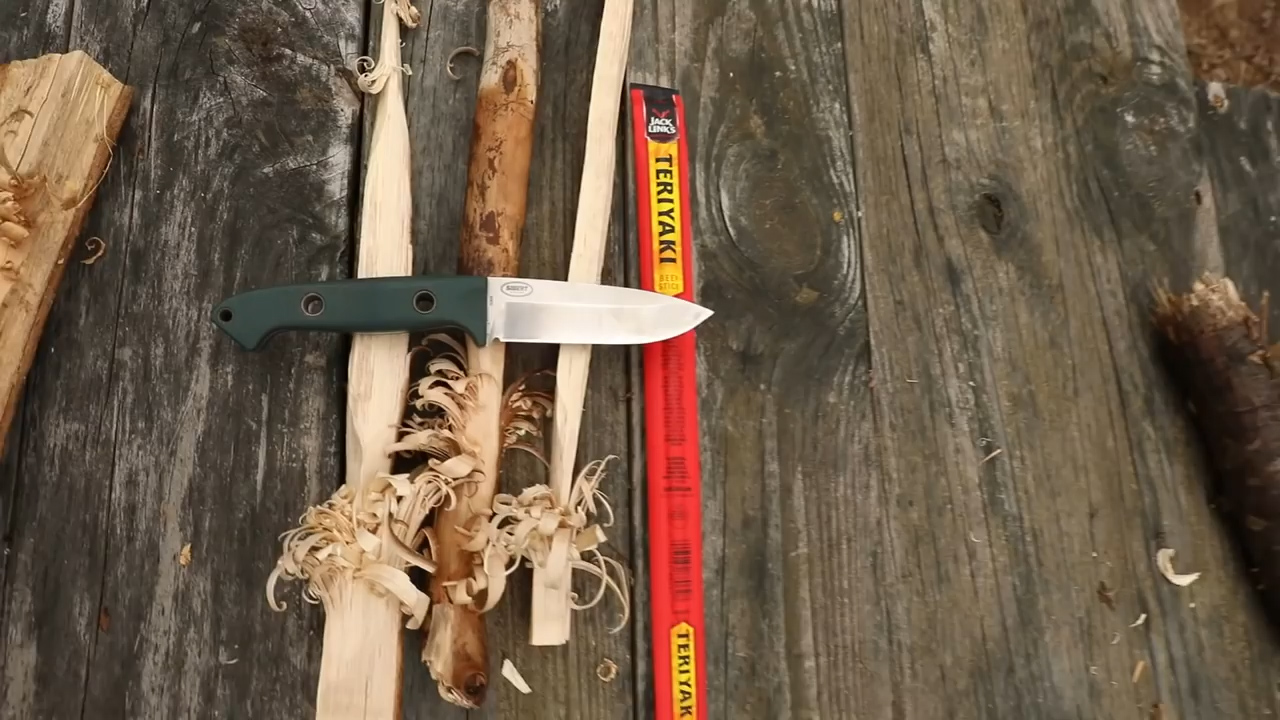knife: (410, 268, 753, 361)
